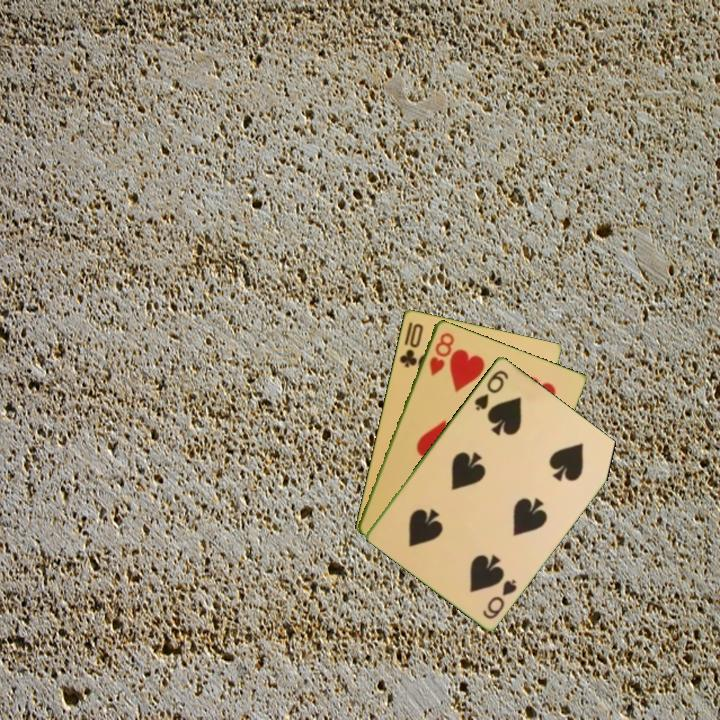10c: (396, 320, 426, 370)
6s: (470, 366, 511, 414), (479, 575, 520, 622)
8h: (426, 329, 457, 378)
